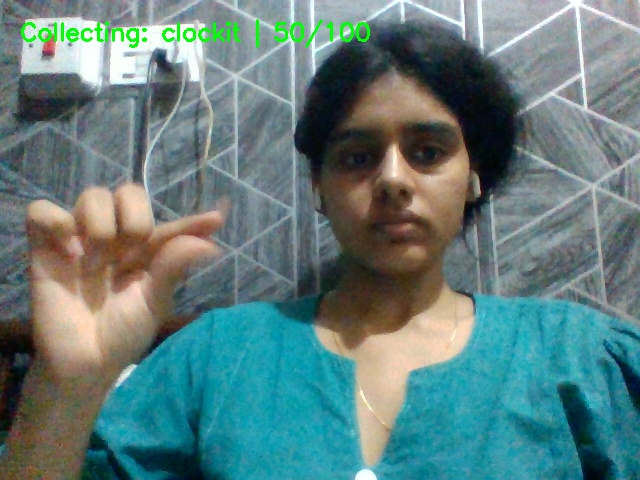clockit: (18, 169, 235, 381)
